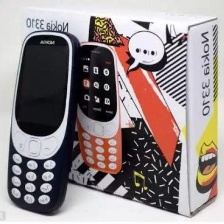book: (16, 4, 221, 221)
phone: (3, 24, 83, 217)
